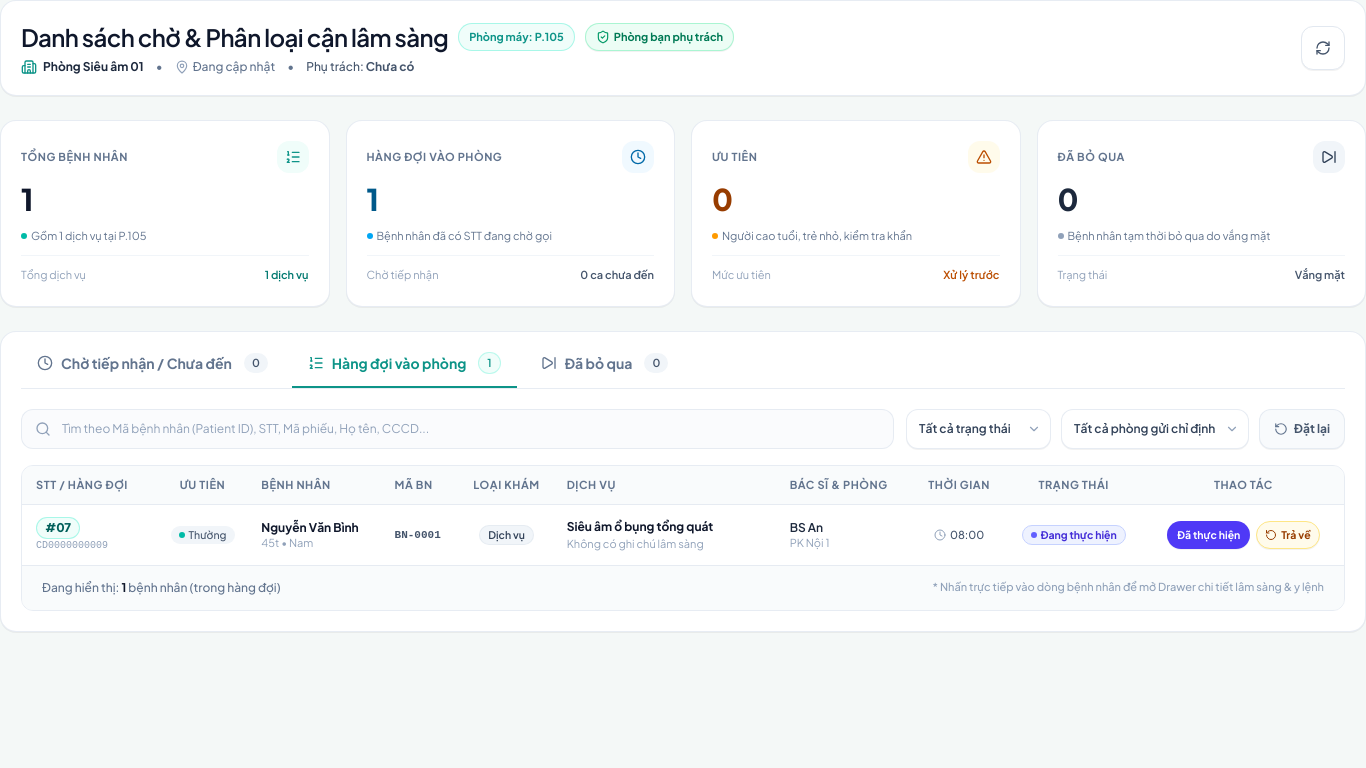
TechnicianQueuePage – UC-66 Perform Paraclinical Order › returns the service to the waiting list with a reason
Click the button "Trả về" at point(1288, 535), box [1256,521,1320,549]
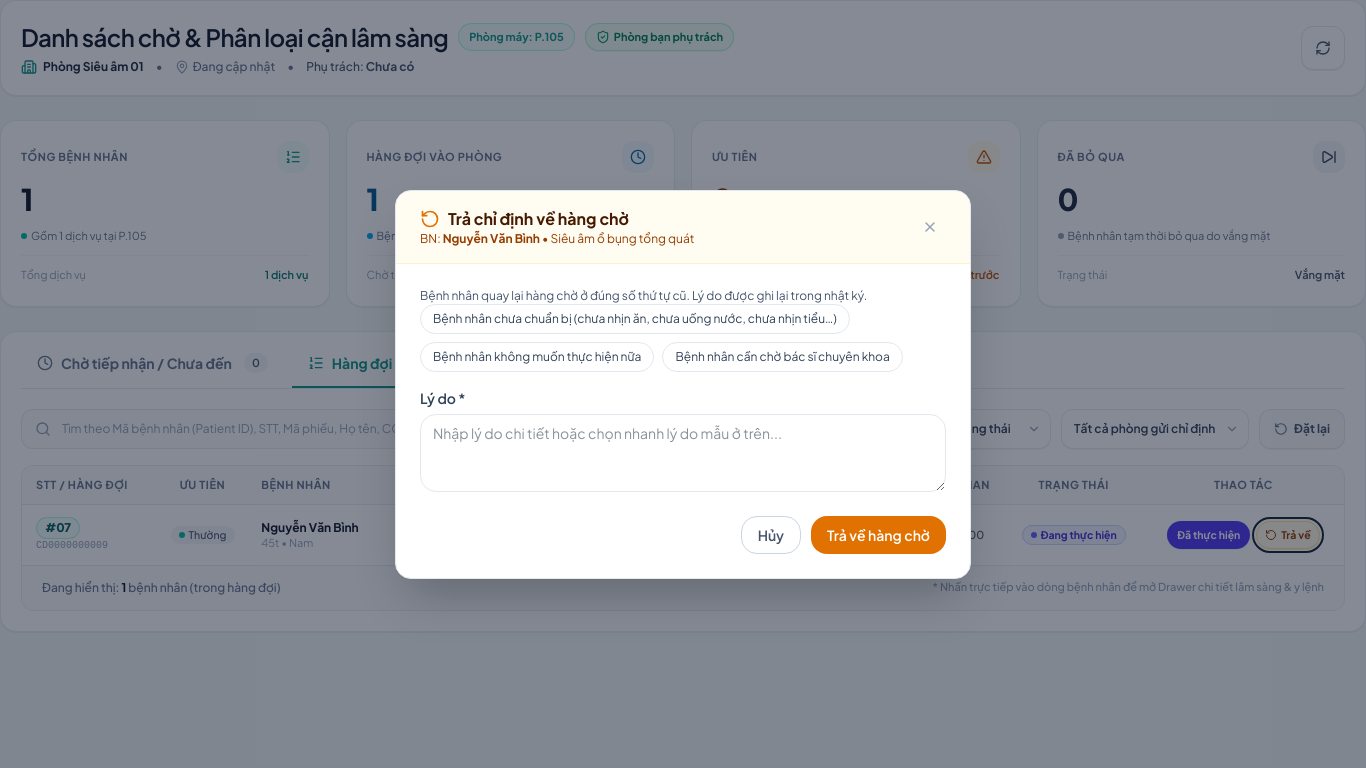
Click the button "Trả về hàng chờ" at point(879, 534), box [811,516,946,554]
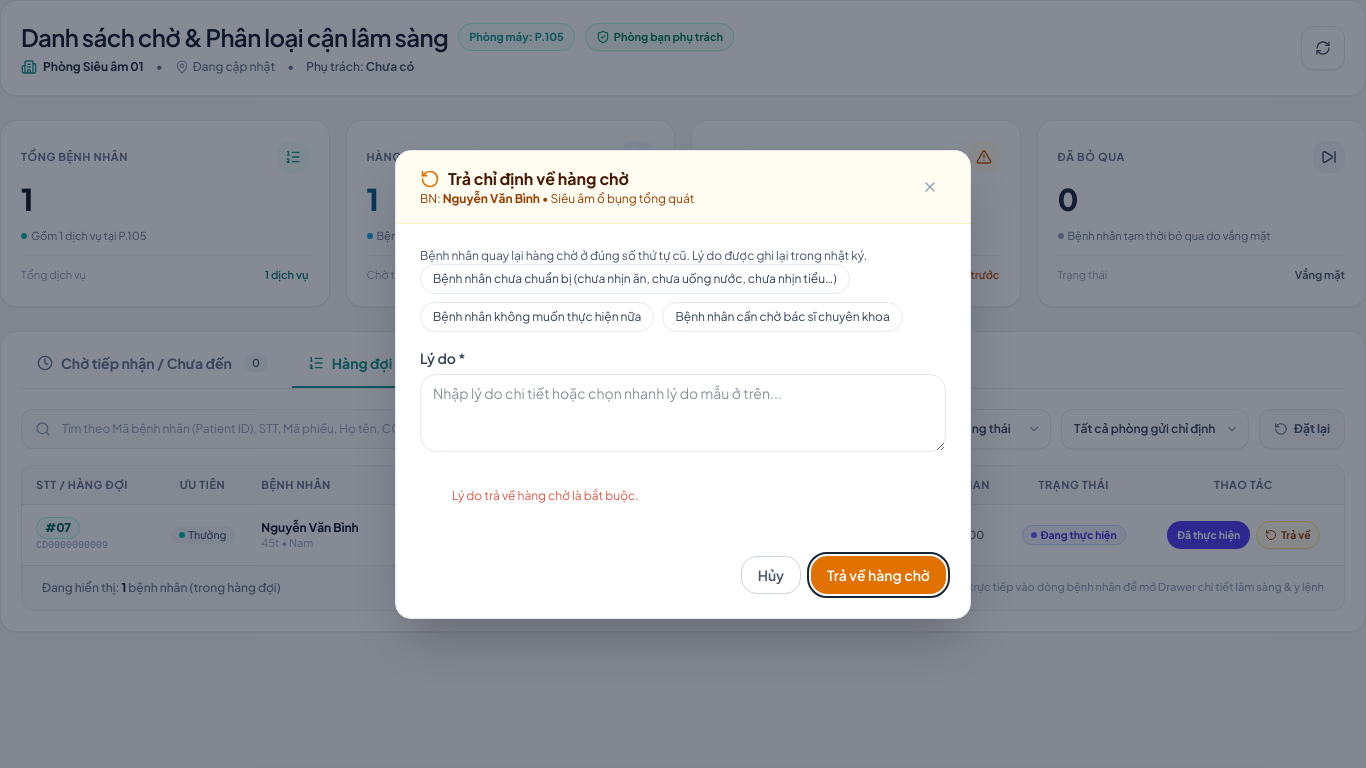
Expected: the message reads "Lý do trả về hàng chờ là bắt buộc.", [452,488,639,502]
Type "Máy siêu âm mất nguồn" into the text box labelled "Lý do *" at point(683, 412), box [420,374,946,452]
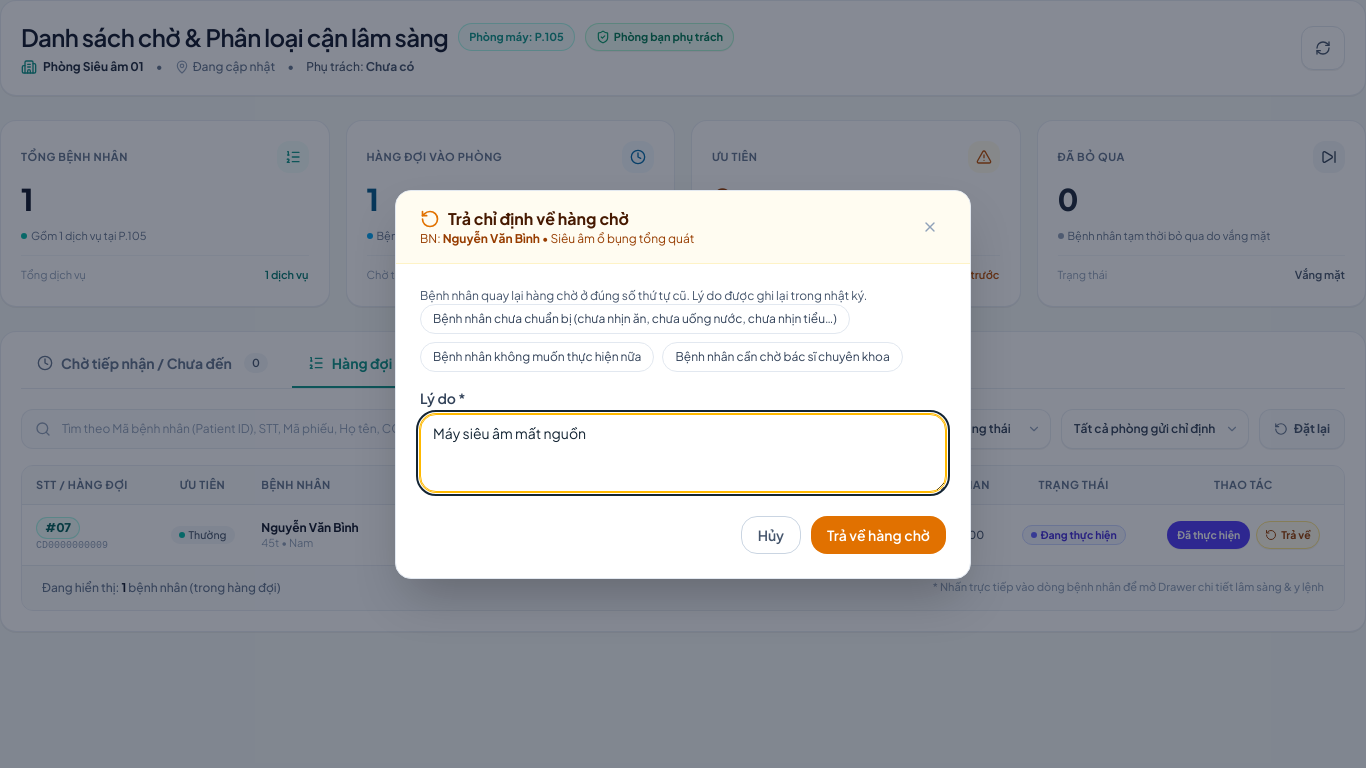
Click the button "Trả về hàng chờ" at point(879, 534), box [811,516,946,554]
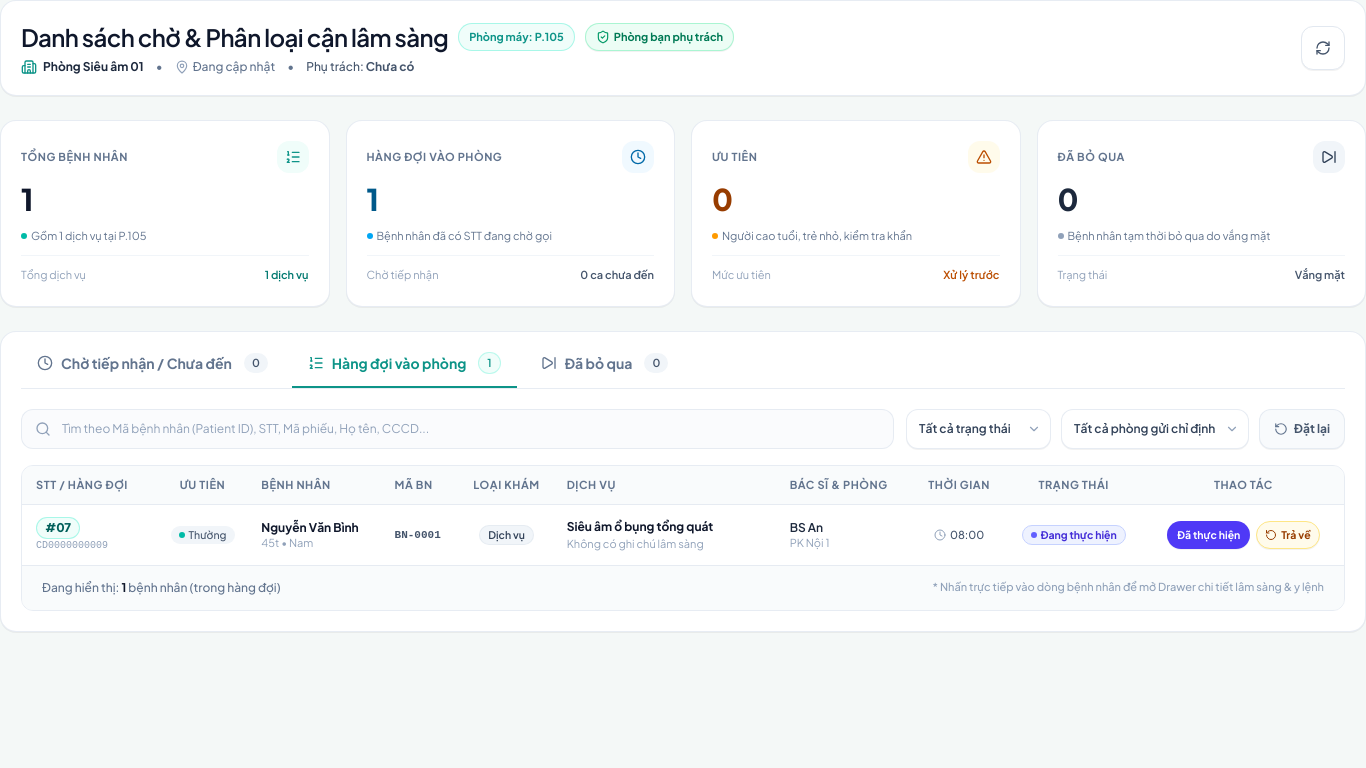
Expected: the heading "Trả chỉ định về hàng chờ" is gone
